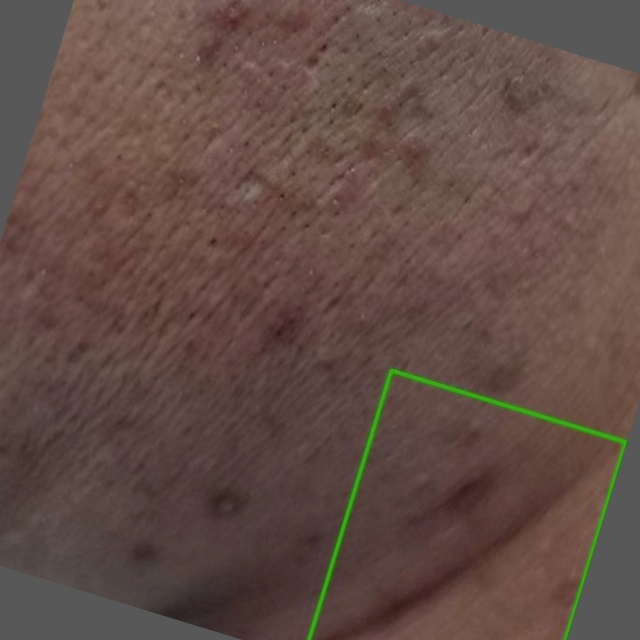Eczema: (308, 370, 625, 639)
